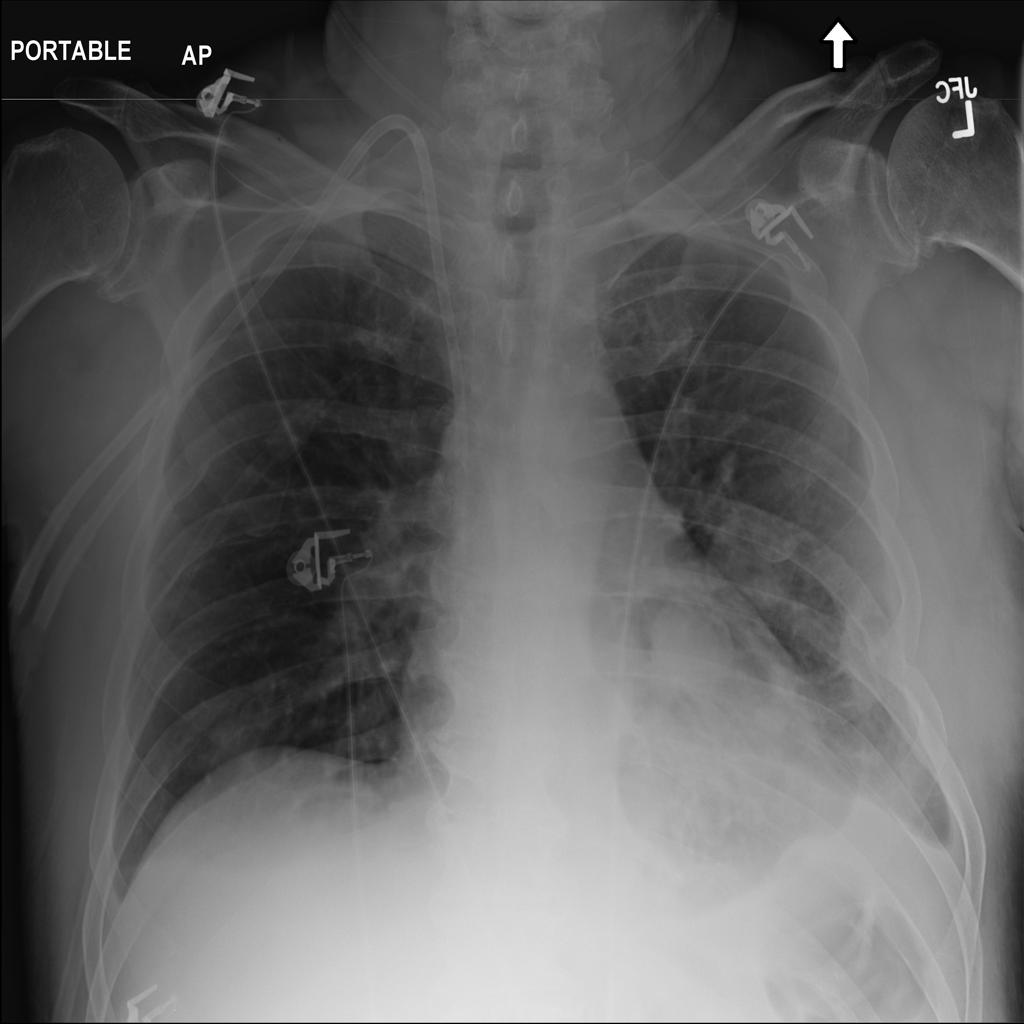nodule: (684, 502, 812, 608), (633, 586, 741, 705), (734, 683, 807, 751)
